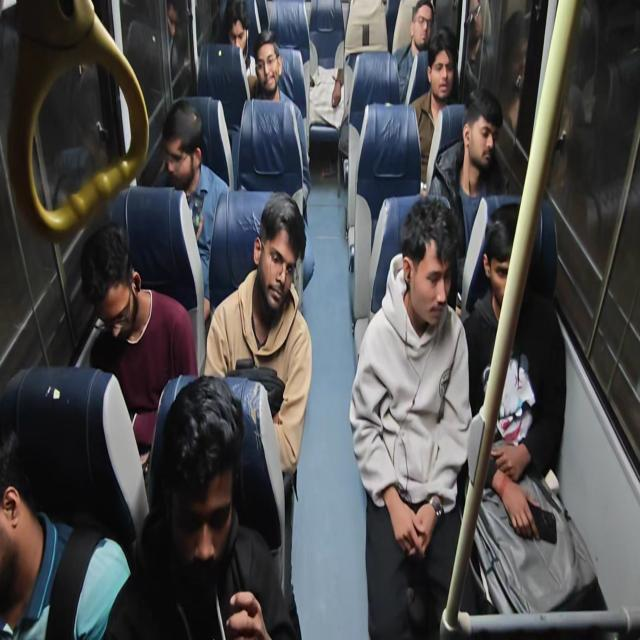person: (150, 386, 255, 597), (399, 192, 461, 350), (0, 394, 42, 607), (81, 209, 143, 344), (155, 91, 224, 206), (251, 189, 307, 329), (487, 198, 536, 329), (461, 84, 506, 196), (426, 26, 464, 108), (210, 0, 254, 58), (256, 27, 285, 110), (407, 0, 438, 55)
